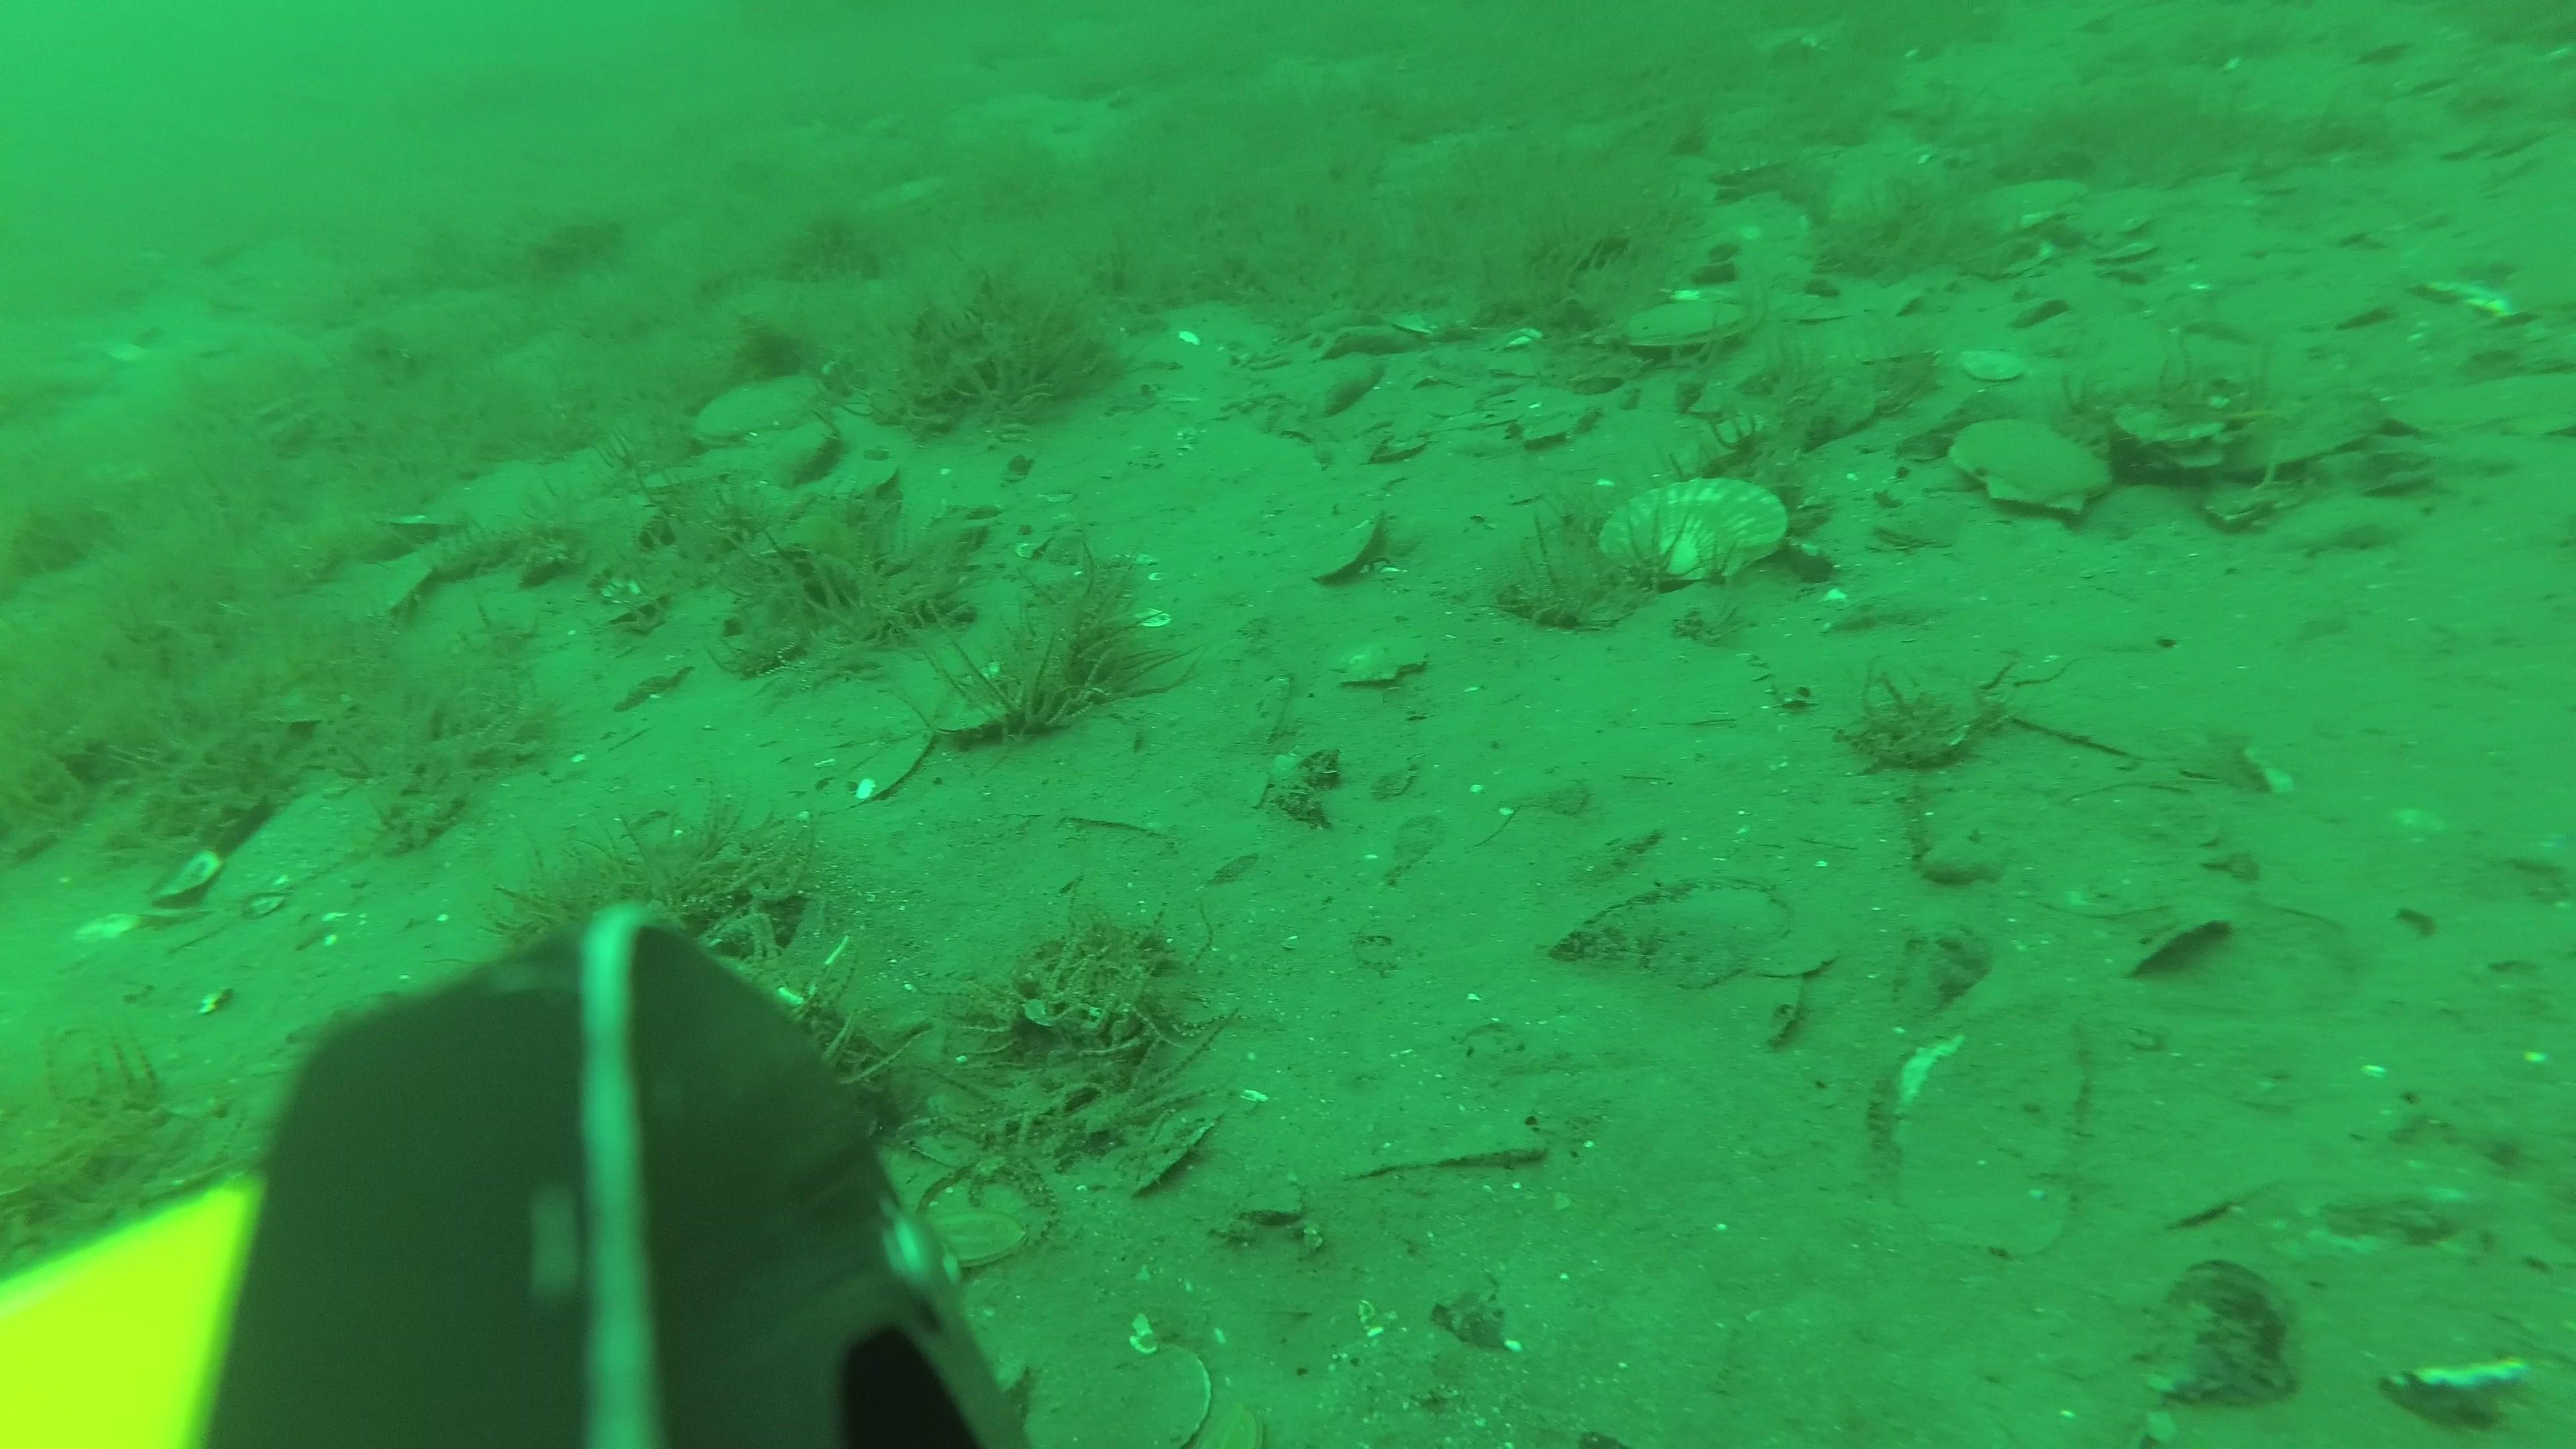scallop: (1587, 464, 1794, 591), (1939, 405, 2121, 522), (681, 366, 824, 455), (1759, 331, 1944, 395), (1966, 166, 2102, 251), (1617, 283, 1757, 361), (938, 665, 1049, 754), (743, 416, 853, 485), (1313, 502, 1396, 593), (1327, 626, 1433, 692), (1504, 400, 1606, 458), (801, 458, 904, 511), (1957, 338, 2031, 389), (1362, 421, 1435, 469), (1771, 297, 1854, 326)
